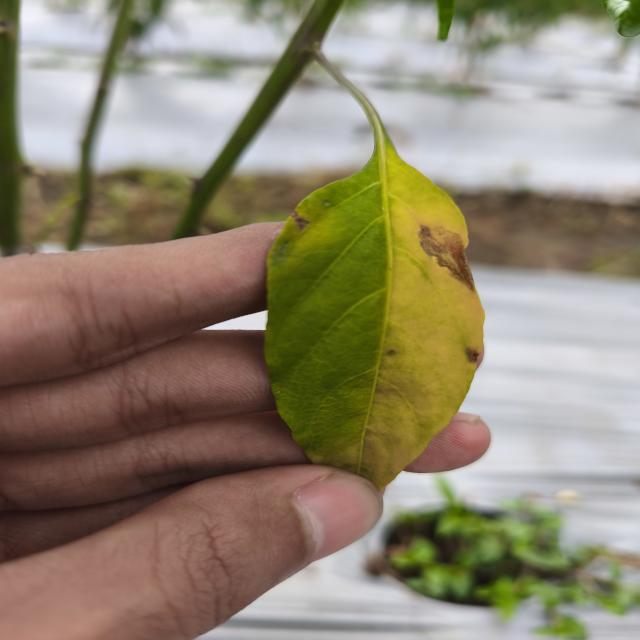Virus Kuning: (262, 143, 486, 492)
